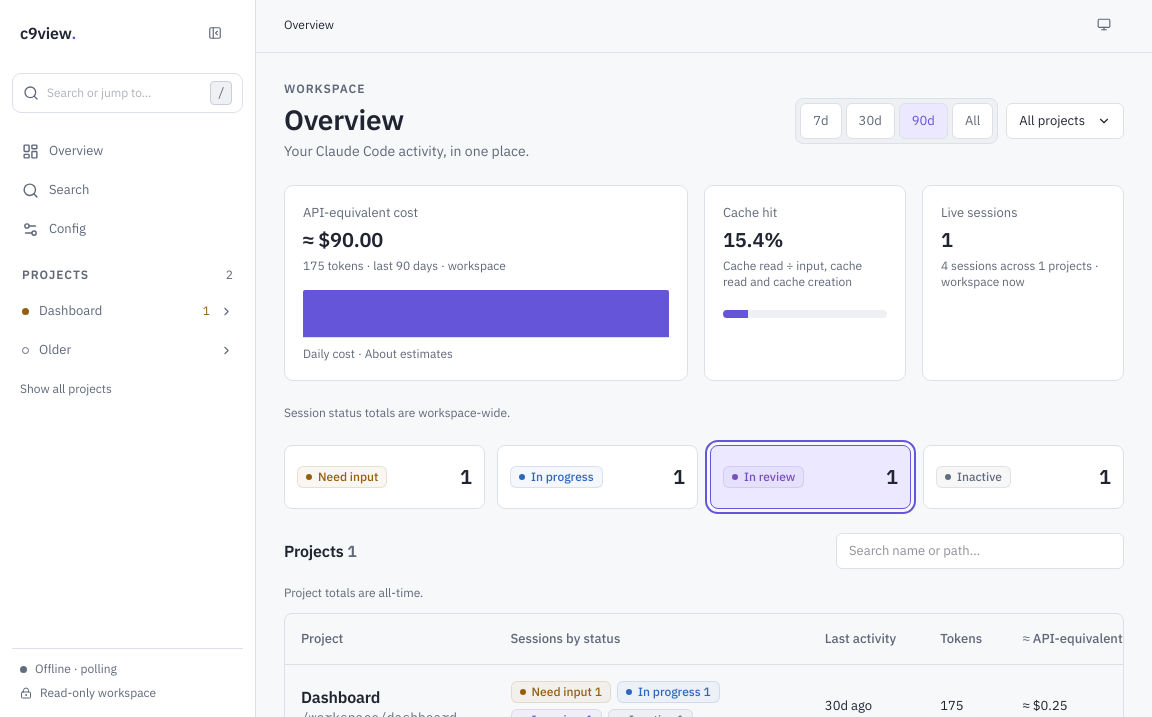
it: round-trips the in_review status and toggles it off with a native keyboard-operable button
The width and height of the screenshot is (1152, 717).
Later steps or results of the test are not shown.
Click the button "In review 1" at (810, 477), box [710, 445, 911, 509]
(page scrolled)
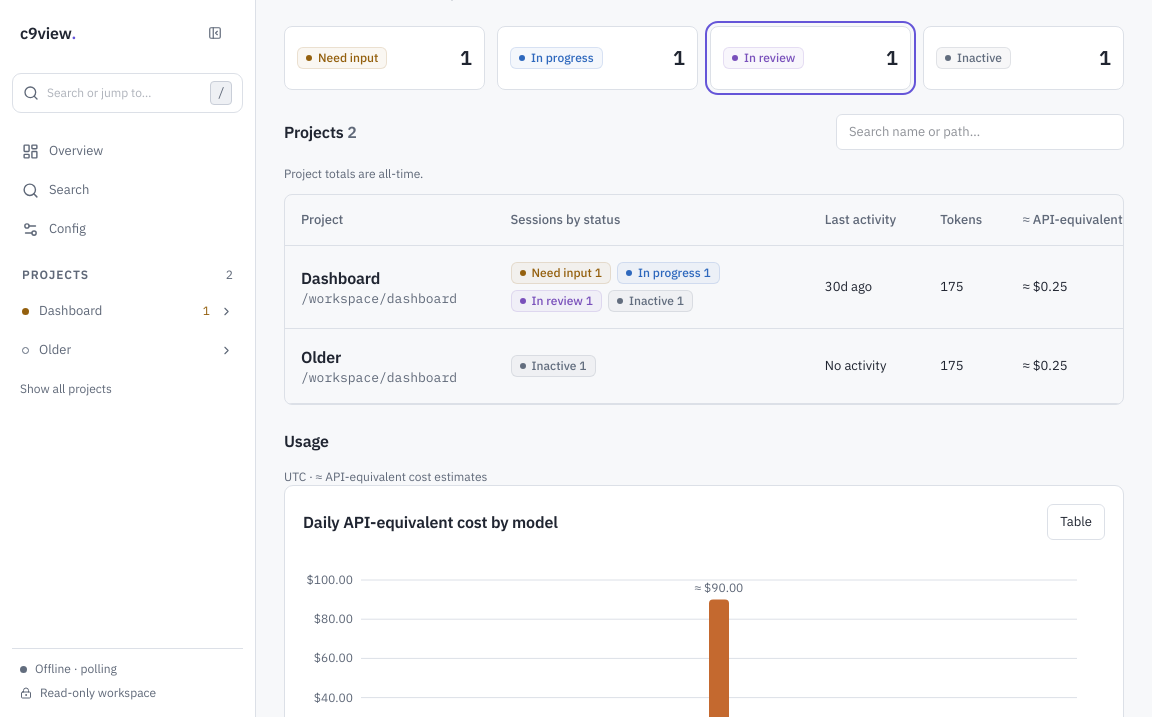
Expected: the link "Older" in the row of "No activity" is shown, [301, 347, 341, 367]
